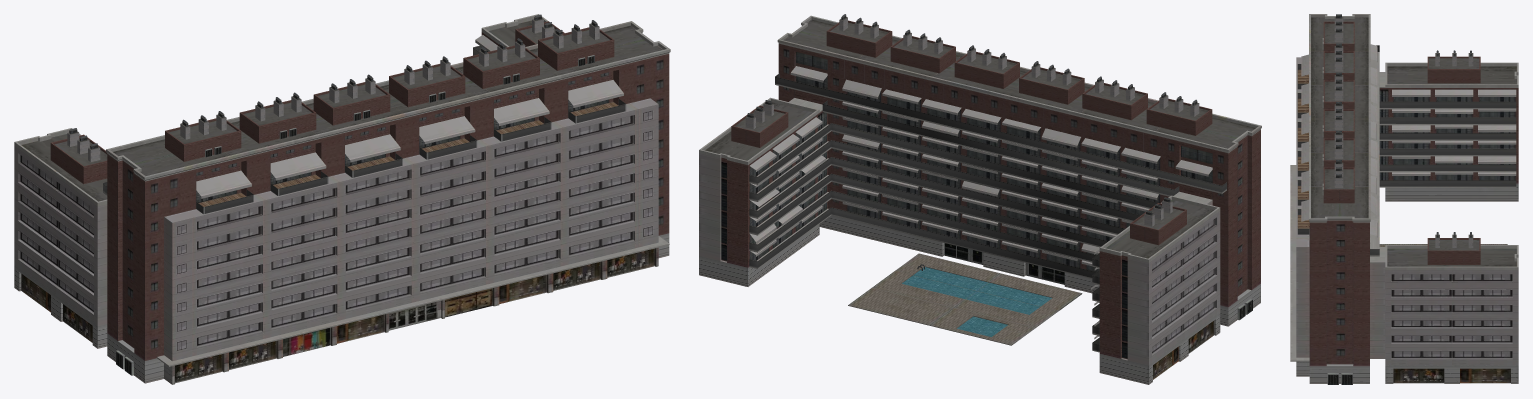
File: condo-3.glb
3 renders of one model, left to right at view 1: azimuth 30°, elevation 25°; view 2: azimuth 150°, elevation 25°; view 3: azimuth 270°, elevation 25°, orthographic. The views are drawn at different scales.
Visible parts, largest first — view 1: LOWRISEMODERNCONDO3_h_corn1_t3_l1_0; view 2: LOWRISEMODERNCONDO3_h_corn1_t3_l1_0; view 3: LOWRISEMODERNCONDO3_h_corn1_t3_l1_0.
Boxes of the visible parts, x1,y1,x2,y2 form: LOWRISEMODERNCONDO3_h_corn1_t3_l1_0: (14,14,670,384); LOWRISEMODERNCONDO3_h_corn1_t3_l1_0: (699,14,1261,384); LOWRISEMODERNCONDO3_h_corn1_t3_l1_0: (1290,14,1518,384).
Bounding box in the file's own units: 8871 × 3796 × 4149.
1 material, 1 textured.
